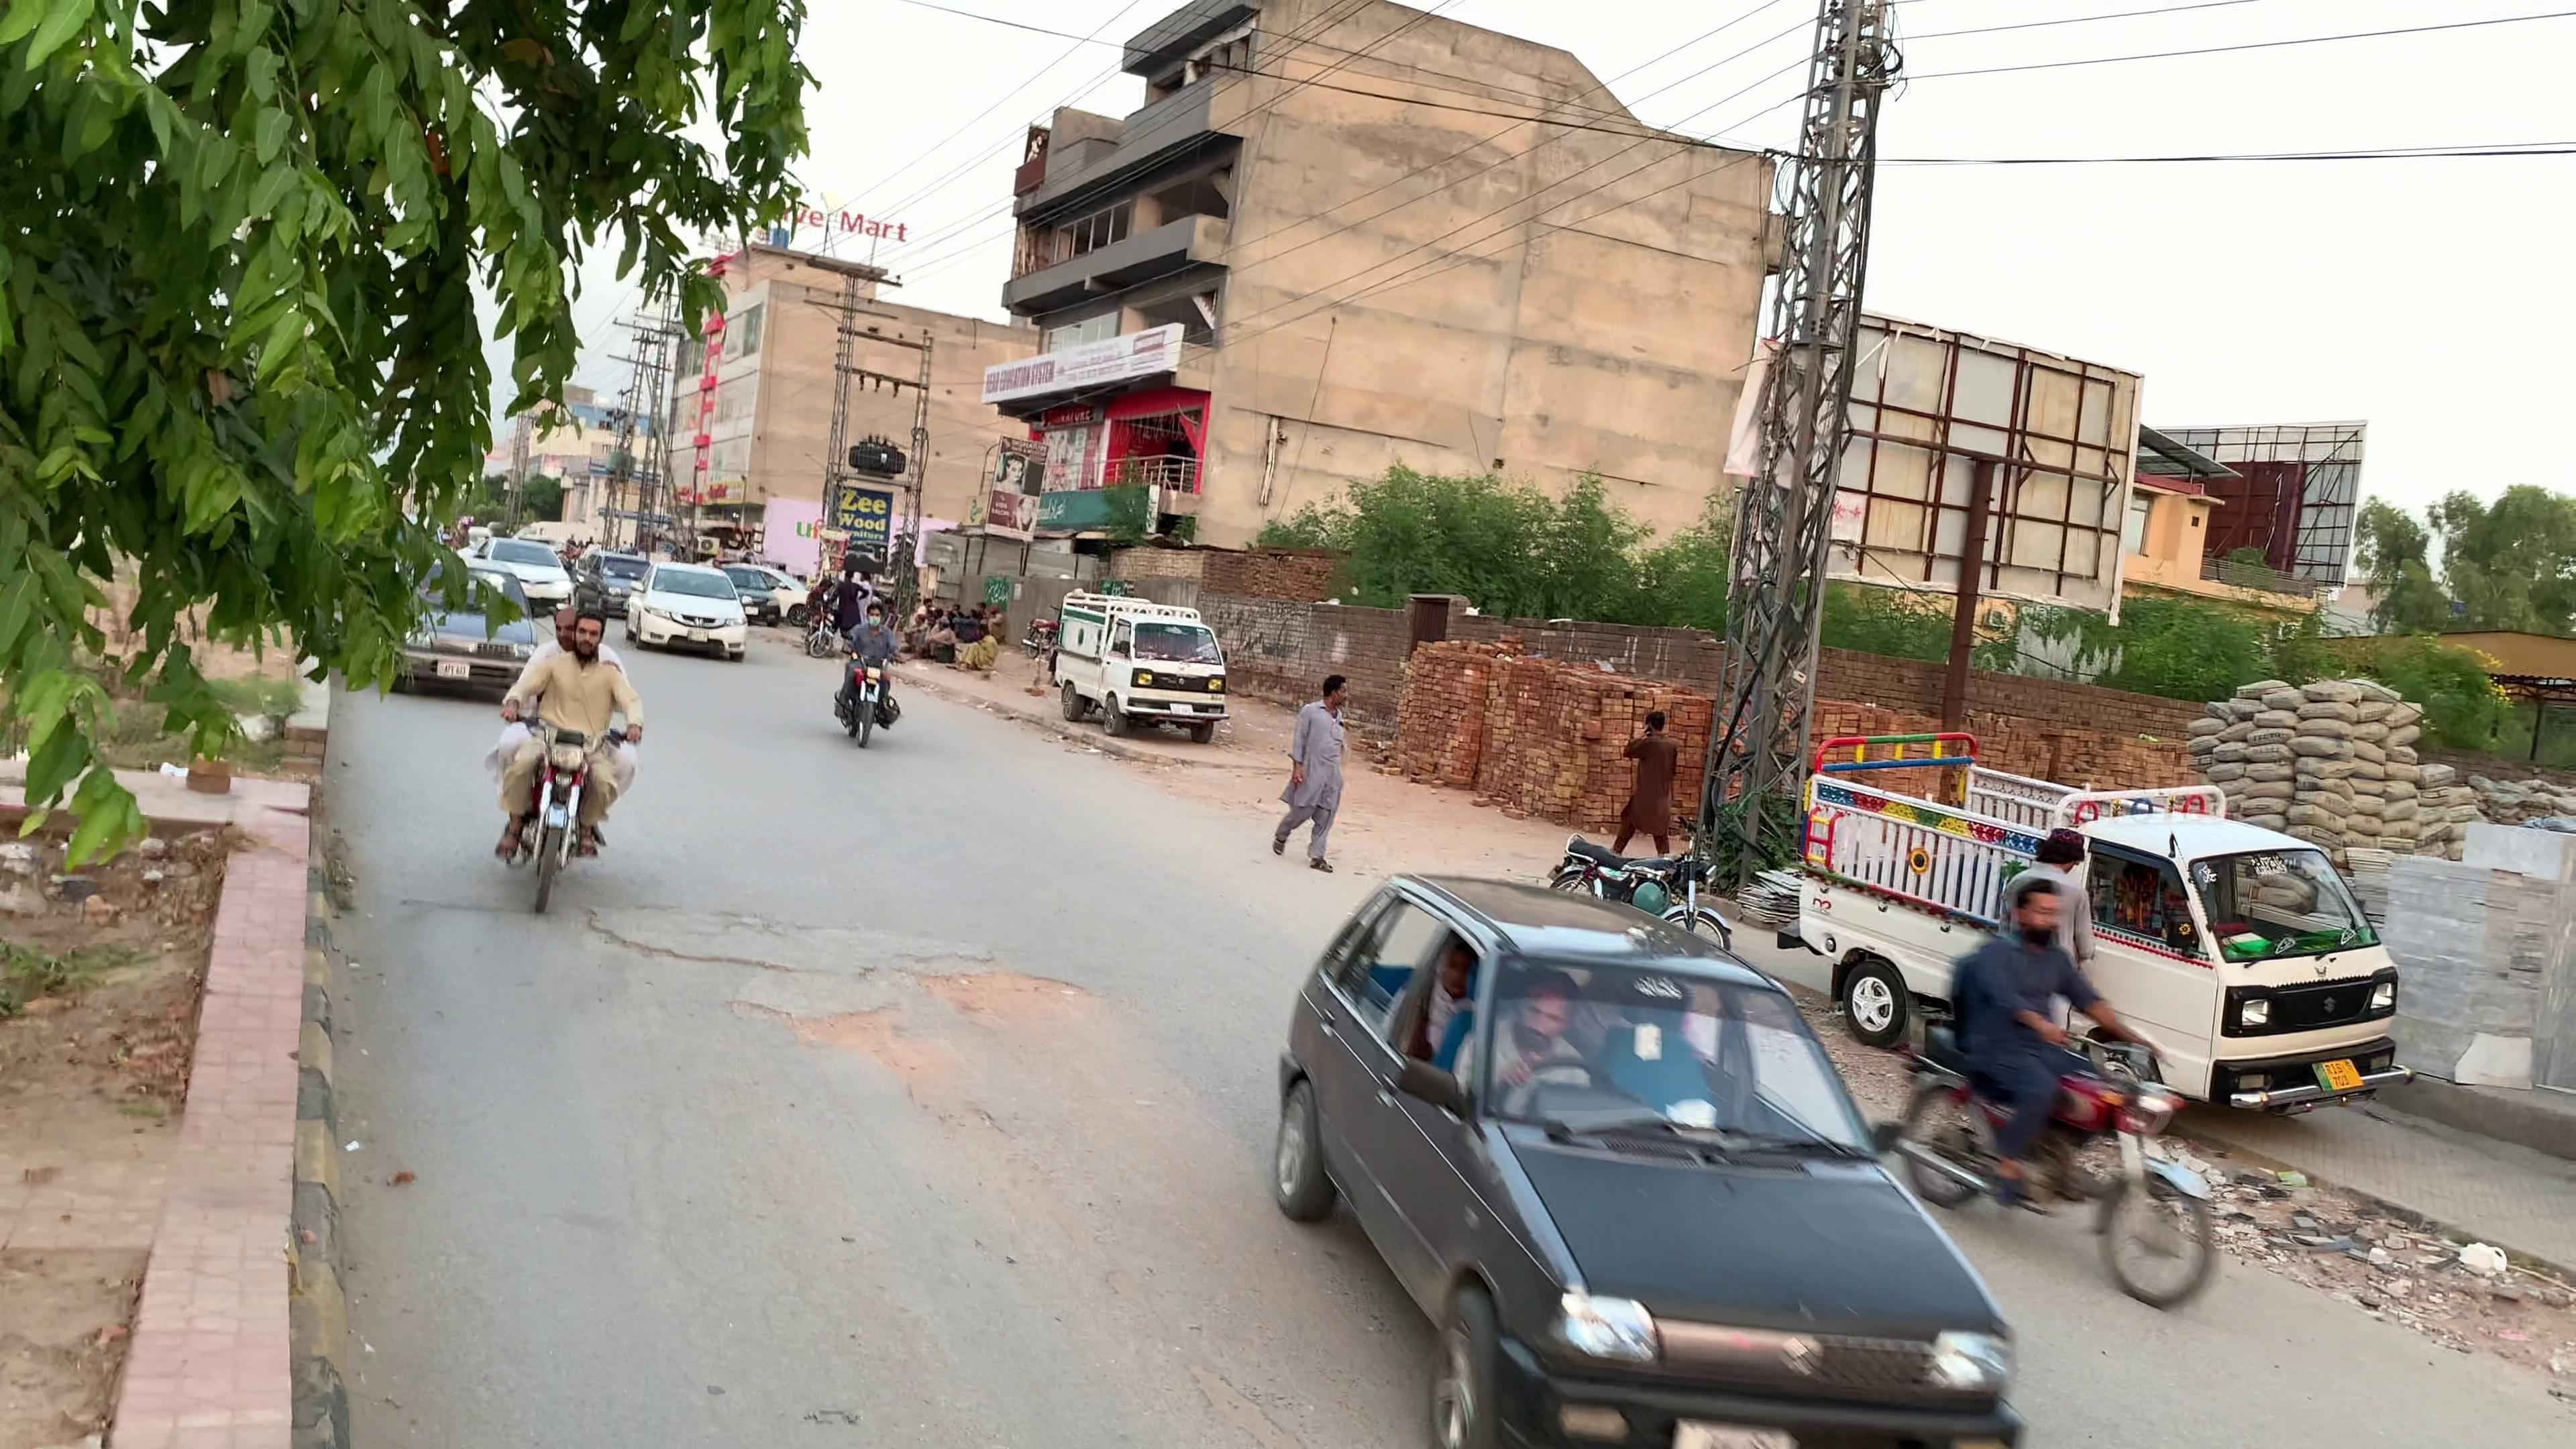windshield: (1481, 932, 1879, 1164)
